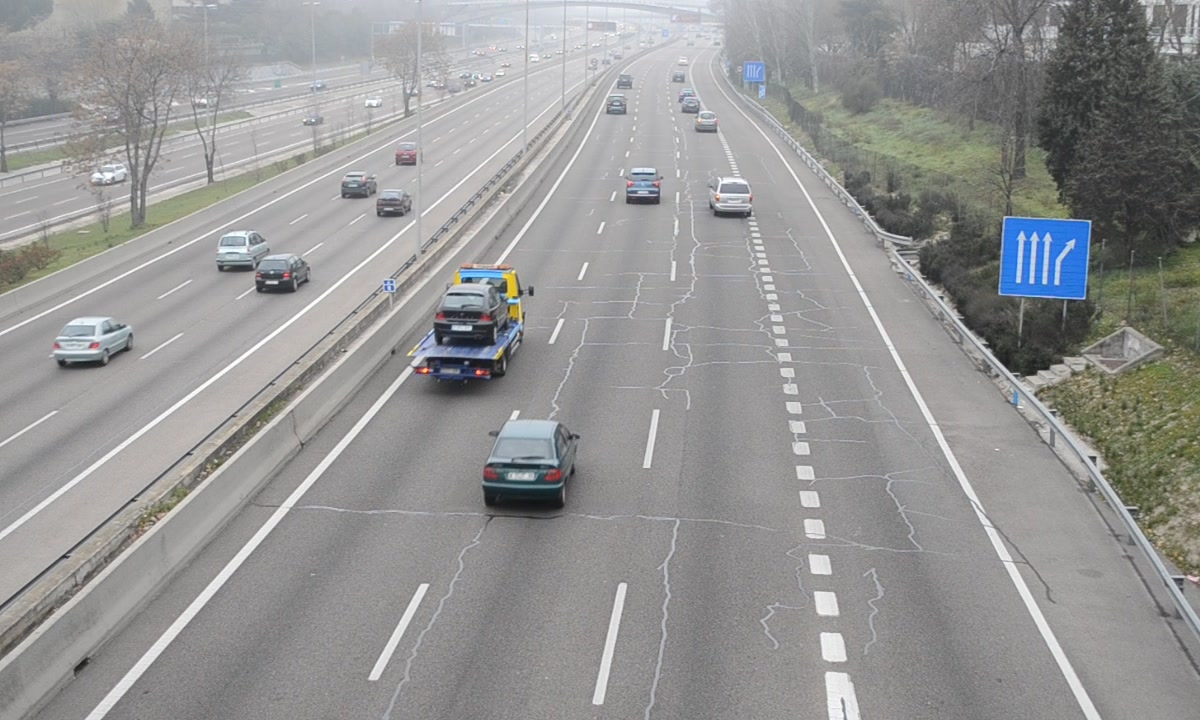car: (482, 417, 572, 499), (709, 176, 754, 216), (625, 167, 662, 202), (697, 109, 719, 133), (604, 93, 626, 117)
small-truck: (407, 263, 526, 379)
